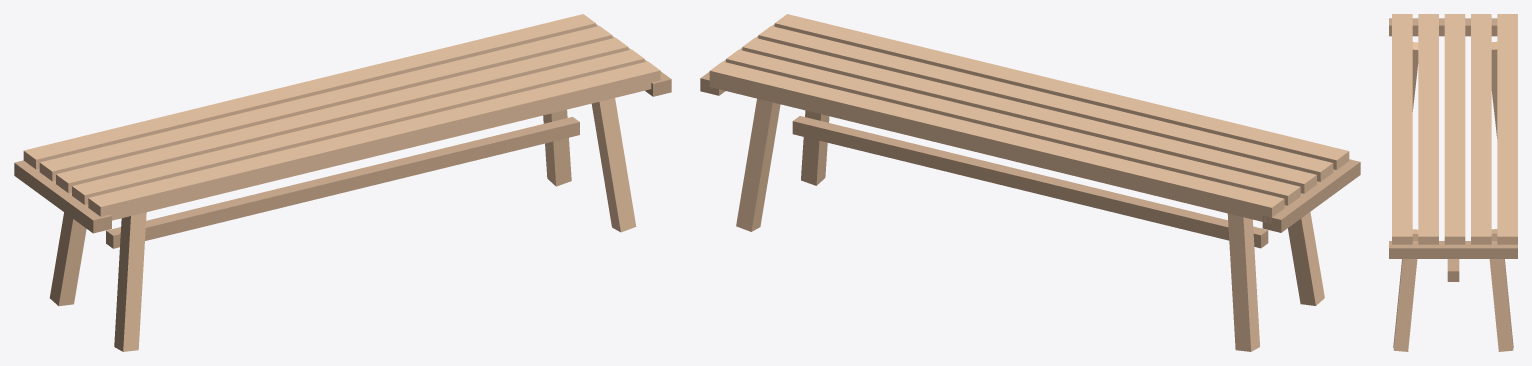
The model's file is benchSlat.glb.
The picture shows the model from 3 angles, left to right: view 1: azimuth 30°, elevation 25°; view 2: azimuth 150°, elevation 25°; view 3: azimuth 270°, elevation 25°; orthographic projection. The views are drawn at different scales.
Parts seen in each view (by area): view 1: benchSlat; view 2: benchSlat; view 3: benchSlat.
Part boxes in pixels (x1,y1,x2,y2): benchSlat: [14, 14, 671, 351]; benchSlat: [700, 14, 1360, 351]; benchSlat: [1389, 14, 1517, 351].
Bounding box in the file's own units: 0.93 × 0.2376 × 0.22.
